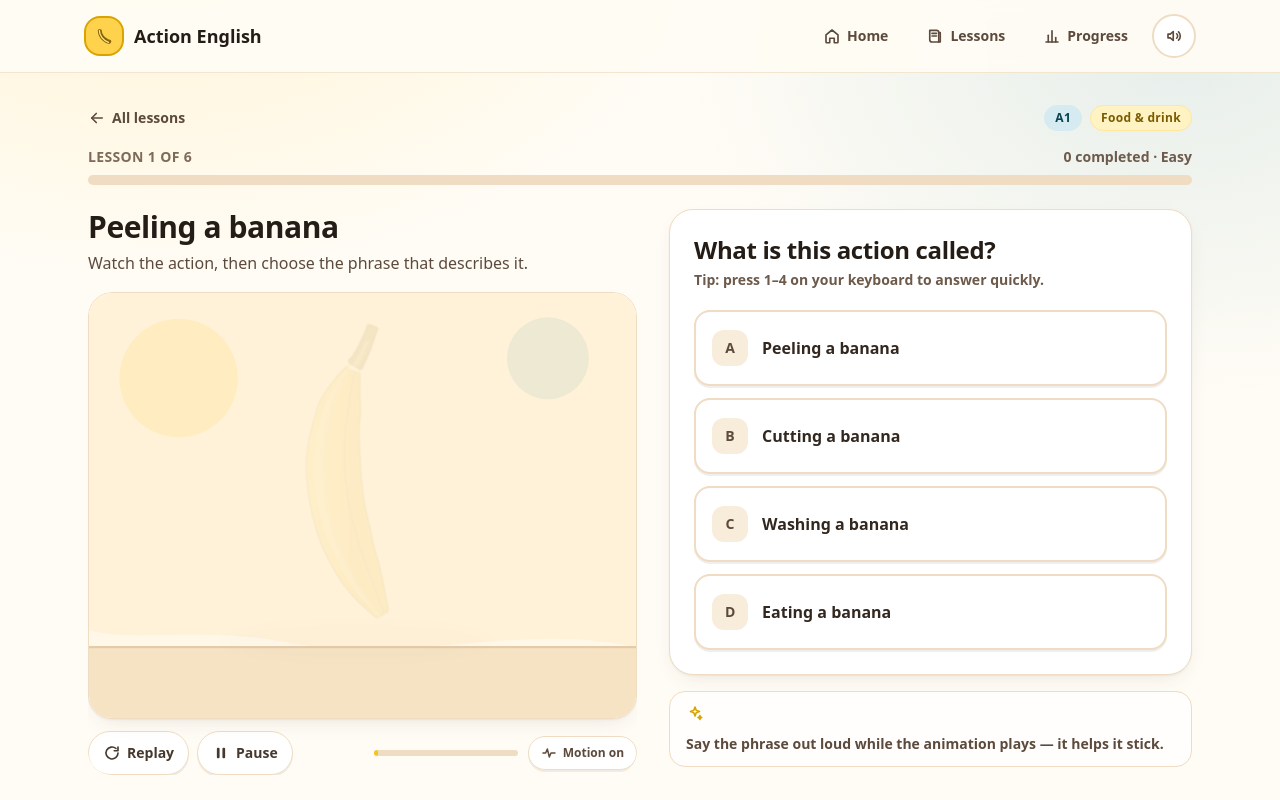
lesson player › reveals the answer when the learner asks for it
This screenshot has width=1280, height=800.
Click the button "C Washing a banana" at (730, 524), box [694,486,1167,562]
(page scrolled)
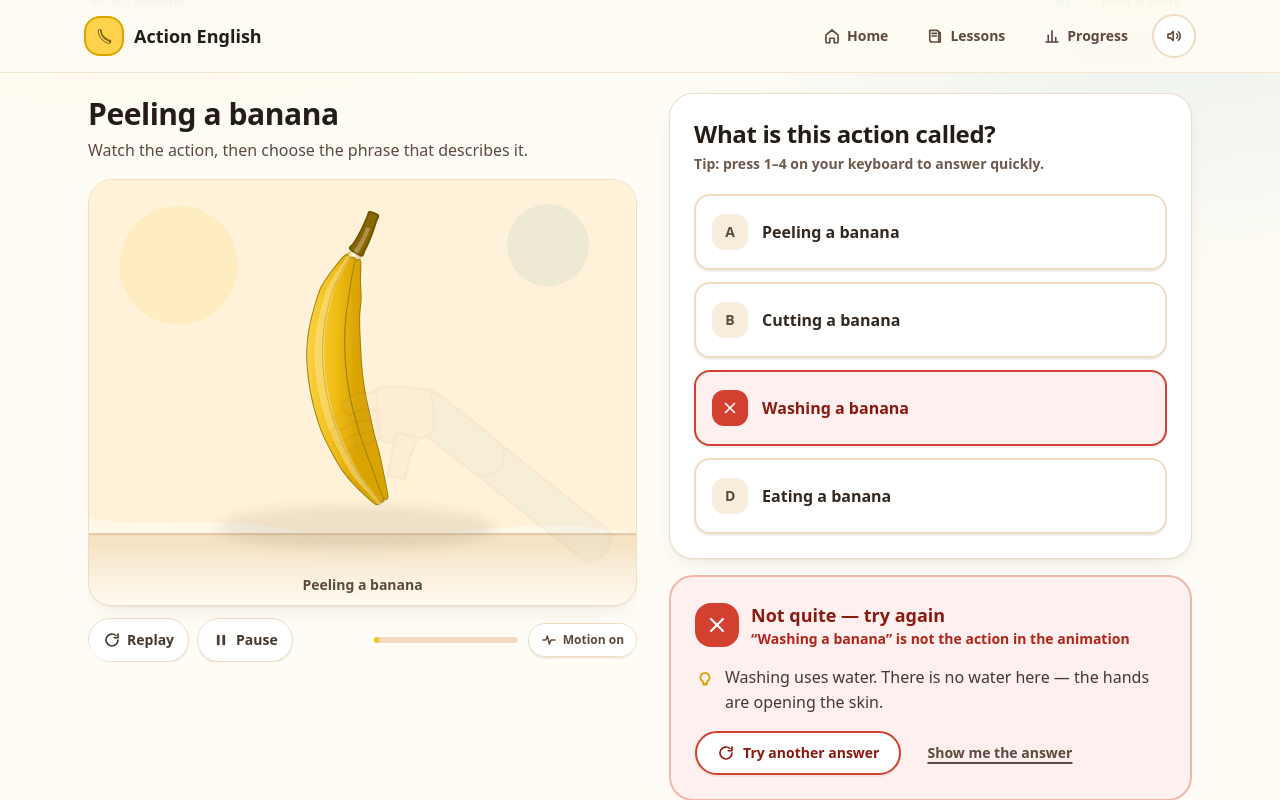
Click the button "Show me the answer" at (1000, 753), box [914,731,1086,775]
(page scrolled)
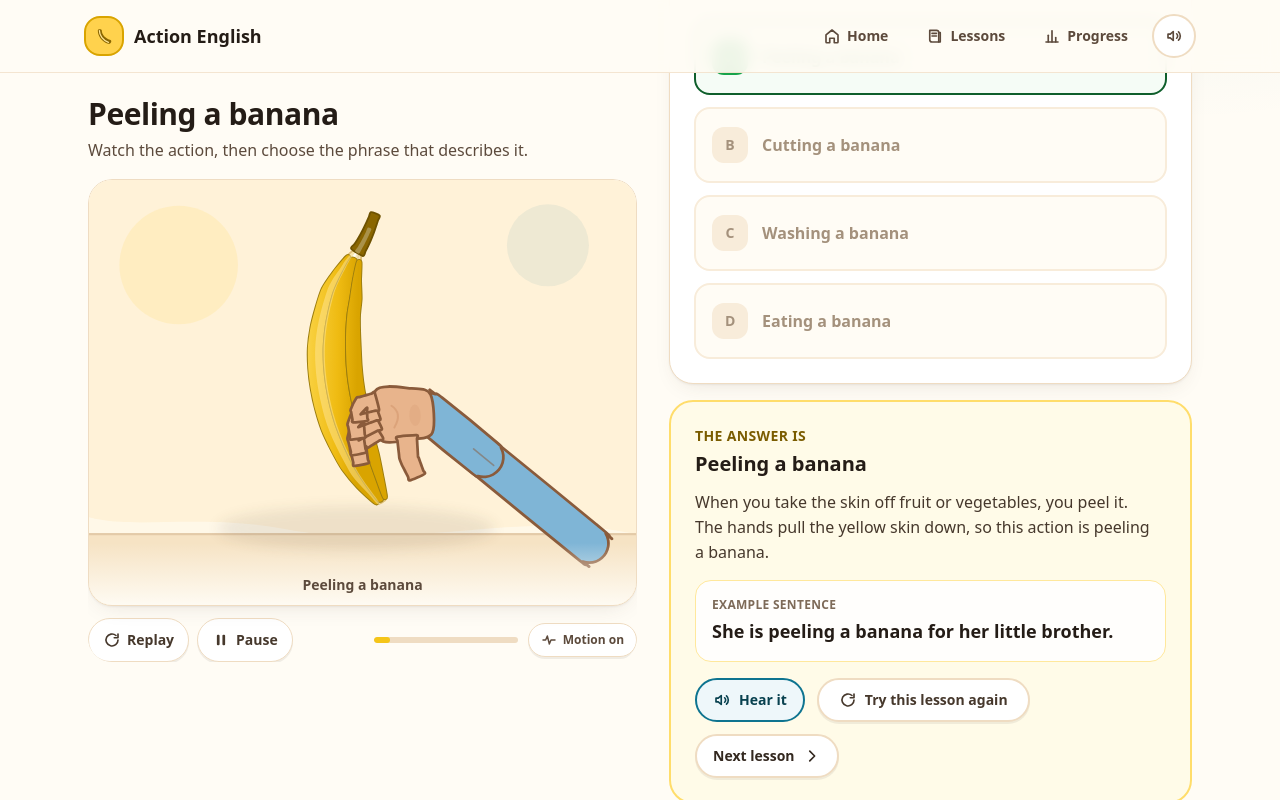
Check: the text "The answer is" is shown, box [695,426,806,445]
Check: the text "She is peeling a banana for her little brother." is shown, box [712,617,1149,645]
